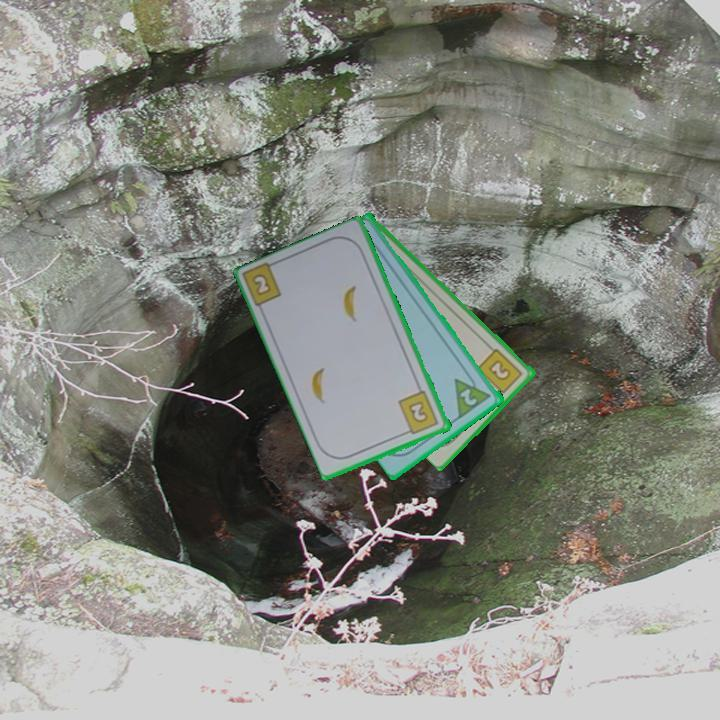2b: (474, 345, 526, 400), (395, 387, 442, 438), (251, 272, 272, 296)
2p: (457, 385, 481, 409)
